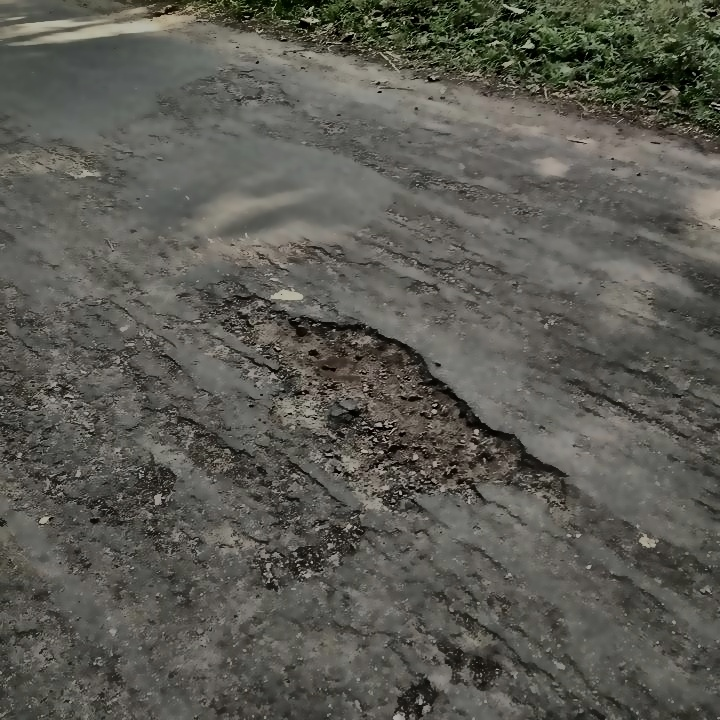pothole: (212, 290, 576, 522)
